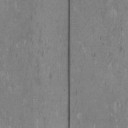surface scratch: (67, 0, 71, 128)
